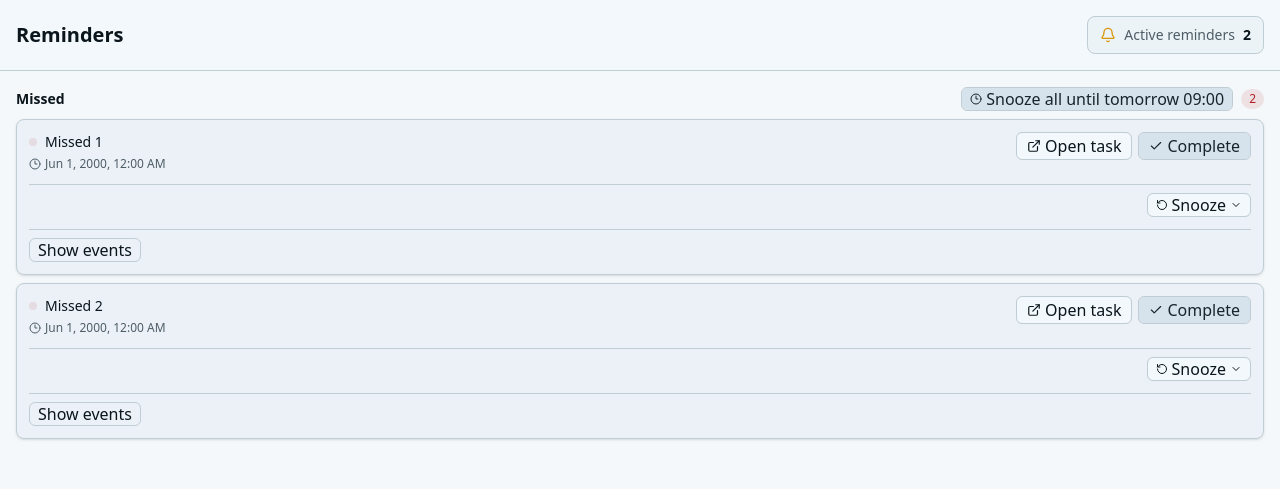
it: ReminderCenterView › snoozes all missed reminders and reports success
The width and height of the screenshot is (1280, 489).
Click the button "Snooze all until tomorrow 09:00": (1097, 99) [961, 87, 1233, 111]
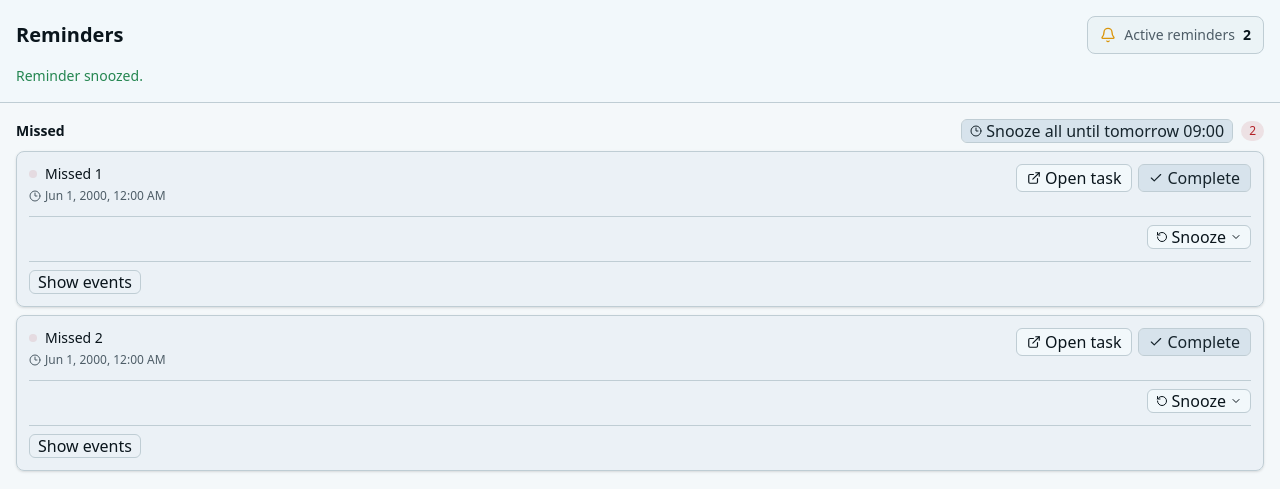
Expected: the text "Reminder snoozed." is shown, [16, 66, 143, 85]
